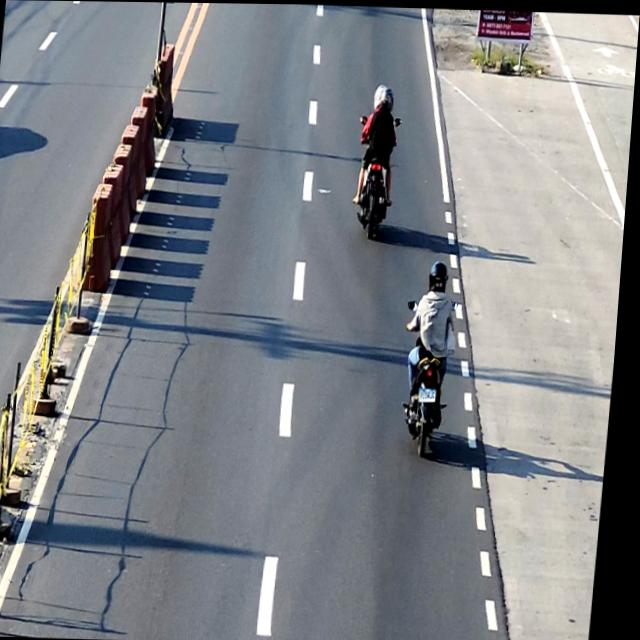License-Plate: (422, 387, 443, 401)
Motorcycle: (401, 295, 464, 455), (350, 110, 404, 238)
